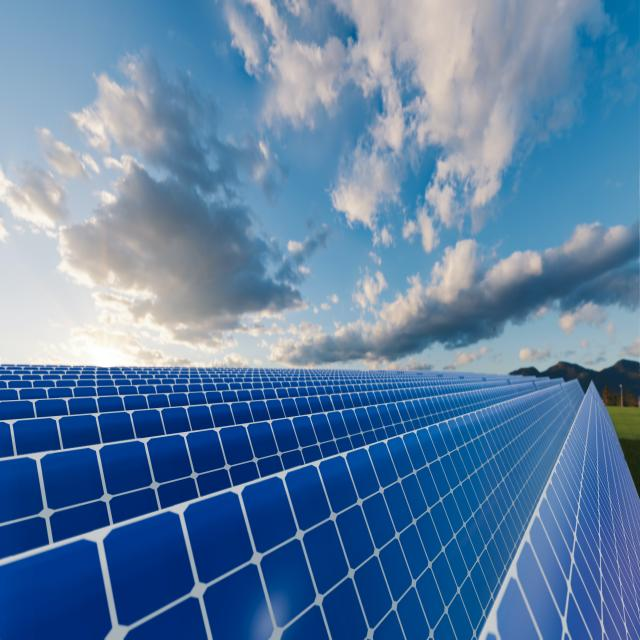clean-solar-panel: (0, 364, 640, 640)
